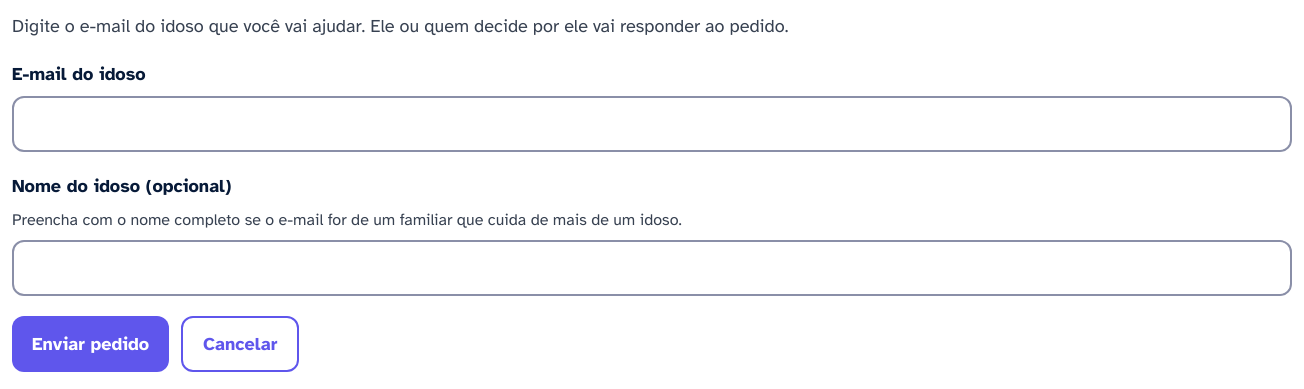
Test: SolicitarVinculo › cuidador: o campo opcional "Nome do idoso" aparece desde o início e vai aparado como nome_idoso
Type "  Maria Teste  " into the field labelled "Nome do idoso (opcional)".
click(652, 268); type("  Maria Teste  ")  # box [12,240,1292,296]
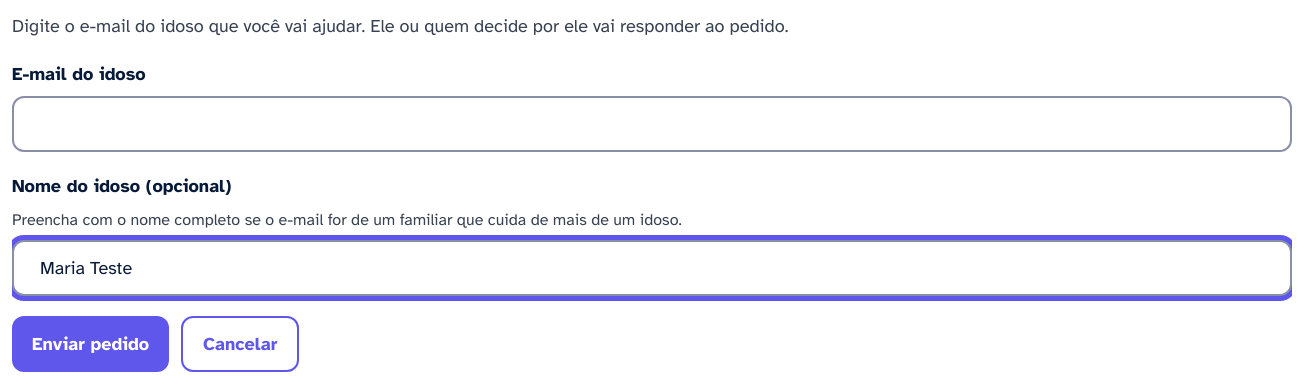
Type "idoso.teste@exemplo.test" into the field labelled "E-mail do idoso".
click(652, 124); type("idoso.teste@exemplo.test")  # box [12,96,1292,152]
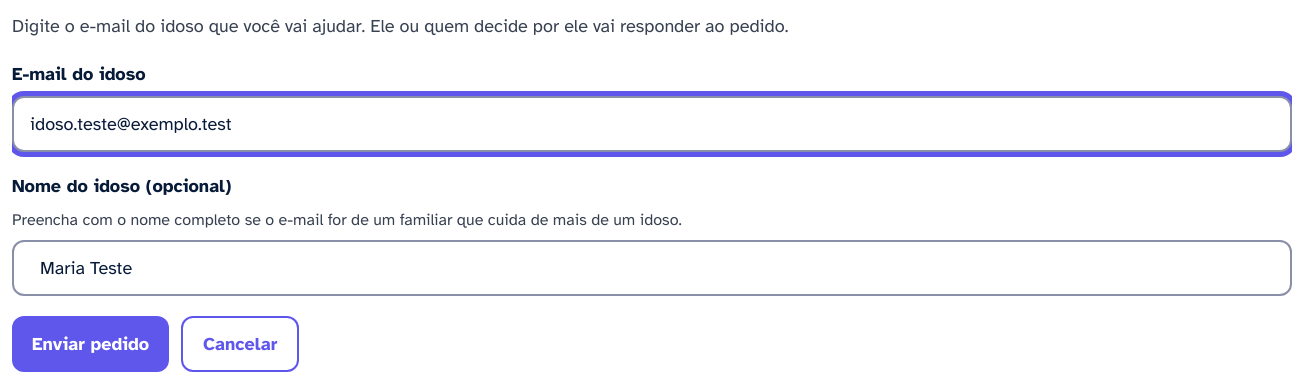
Click the button "Enviar pedido".
click(90, 344)  # box [12,316,169,372]
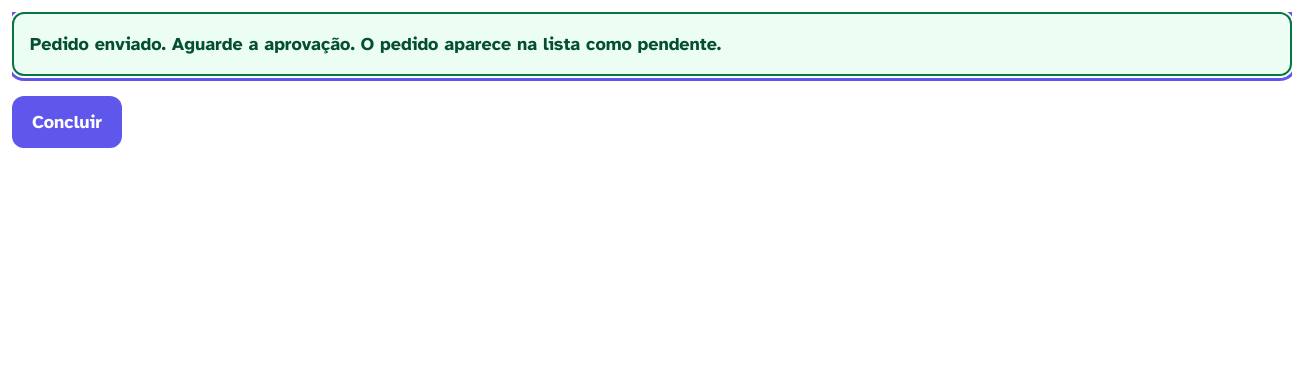
Check: the text "Pedido enviado. Aguarde a aprovação. O pedido aparece na lista como pendente." is shown, box [12,12,1292,76]
